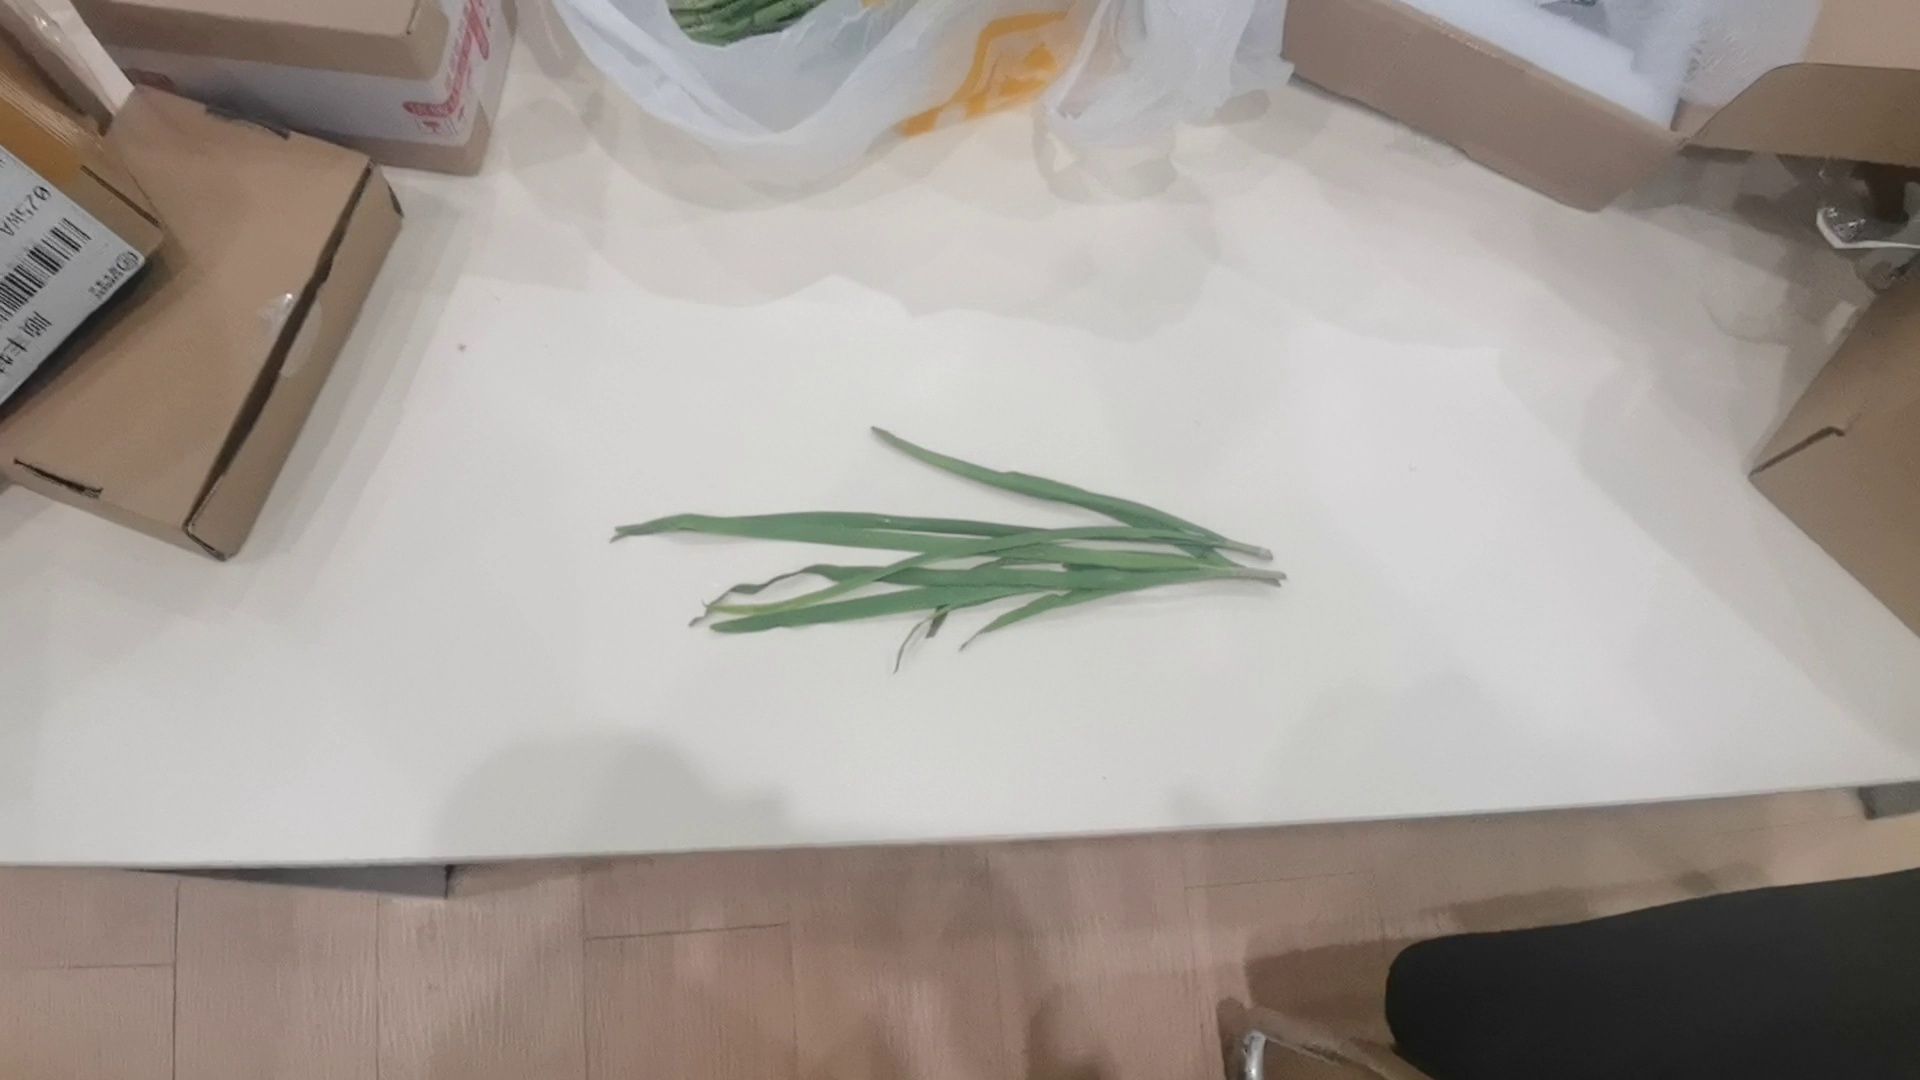chives: (604, 415, 1288, 670)
